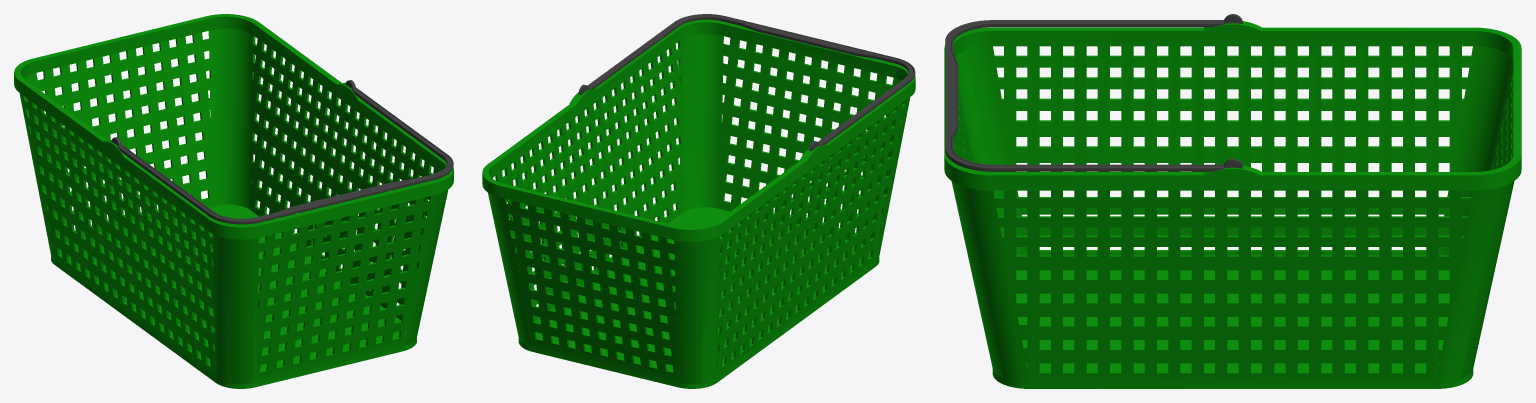
3 views of the same model, side by side, from view 1: azimuth 30°, elevation 25°; view 2: azimuth 150°, elevation 25°; view 3: azimuth 270°, elevation 25° (orthographic). The views are drawn at different scales.
Visible parts, largest first — view 1: Корзинка, ручка; view 2: Корзинка, ручка; view 3: Корзинка, ручка.
Part boxes in pixels (<box>): Корзинка: <box>14,14,453,388</box>; ручка: <box>117,88,453,224</box>; Корзинка: <box>482,19,915,388</box>; ручка: <box>587,14,915,145</box>; Корзинка: <box>944,21,1521,388</box>; ручка: <box>945,20,1223,171</box>.
Size of the model in its own units: 14.41 by 23.62 by 10.88.
